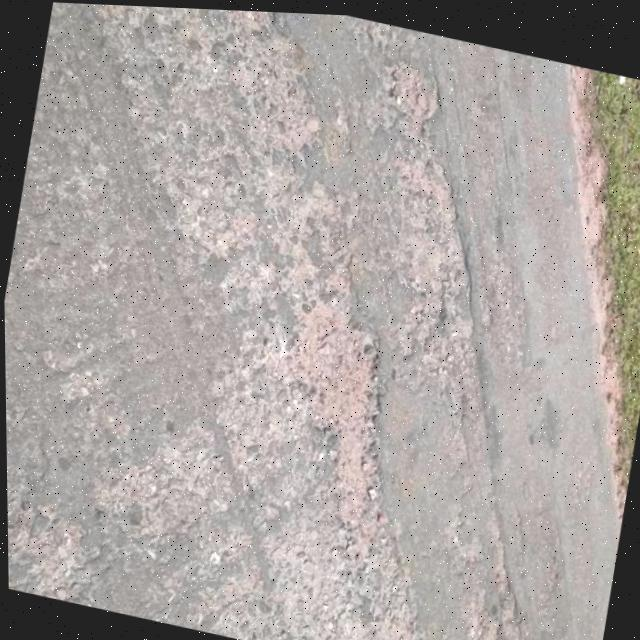Pothole: (269, 288, 413, 539), (376, 141, 502, 352), (373, 54, 446, 129)
